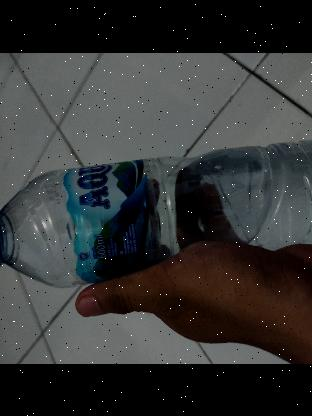Plastic Bottle: (0, 132, 312, 293)
